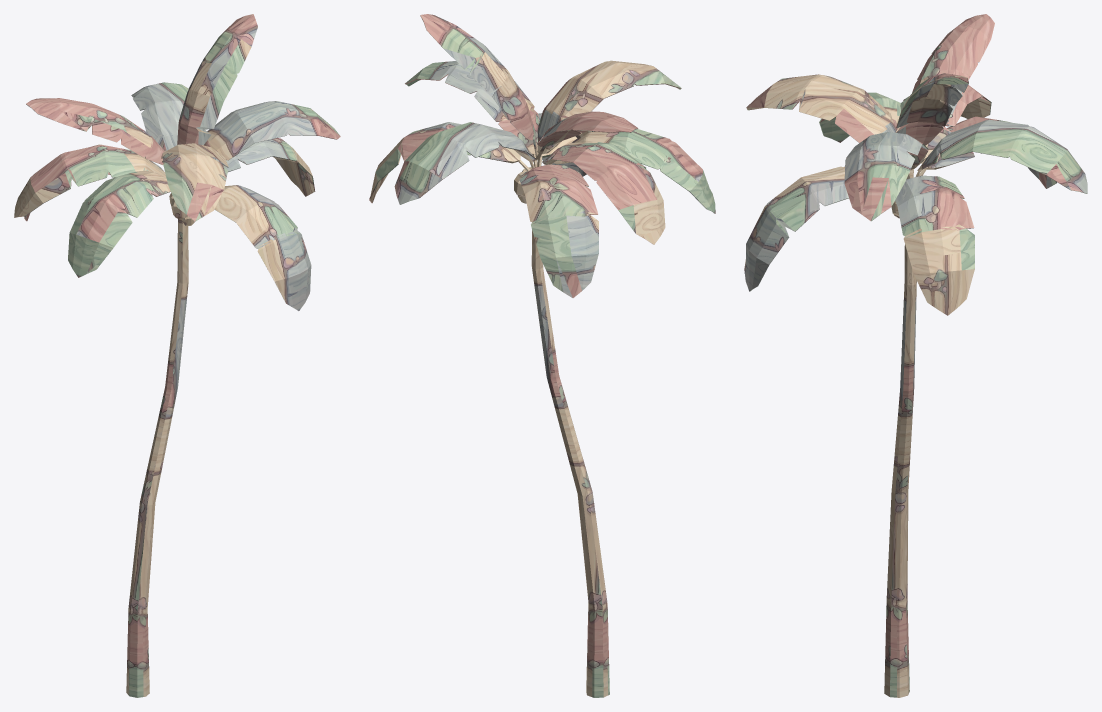
File: trop_palm2.glb
The picture shows the model from 3 angles, left to right: view 1: azimuth 30°, elevation 25°; view 2: azimuth 150°, elevation 25°; view 3: azimuth 270°, elevation 25°; orthographic projection. The views are drawn at different scales.
Visible parts, largest first — view 1: CoconutPalmTree_mesh; view 2: CoconutPalmTree_mesh; view 3: CoconutPalmTree_mesh.
Boxes of the visible parts, x1,y1,x2,y2 form: CoconutPalmTree_mesh: [14, 14, 340, 697]; CoconutPalmTree_mesh: [369, 14, 715, 697]; CoconutPalmTree_mesh: [744, 14, 1087, 697].
Size of the model in its own units: 12.75 by 27.08 by 12.16.
Materials: 1 (1 with a texture image).
